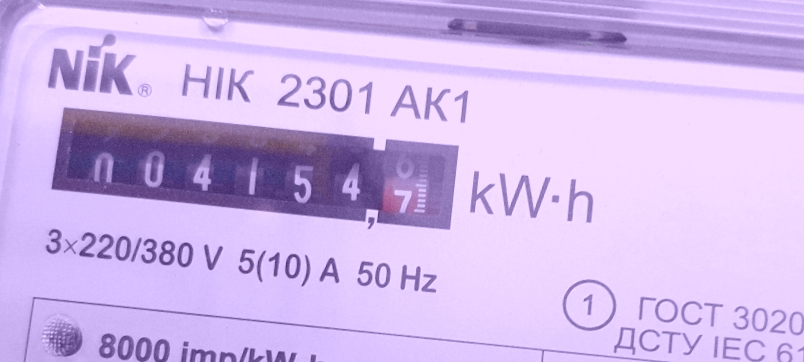0: (140, 146, 167, 189), (90, 146, 116, 183)
1: (244, 154, 261, 196)
4: (189, 149, 216, 193), (338, 157, 363, 202)
5: (288, 158, 317, 205)
6: (392, 148, 418, 180)
7: (389, 184, 413, 215)
screen: (34, 85, 477, 248)
